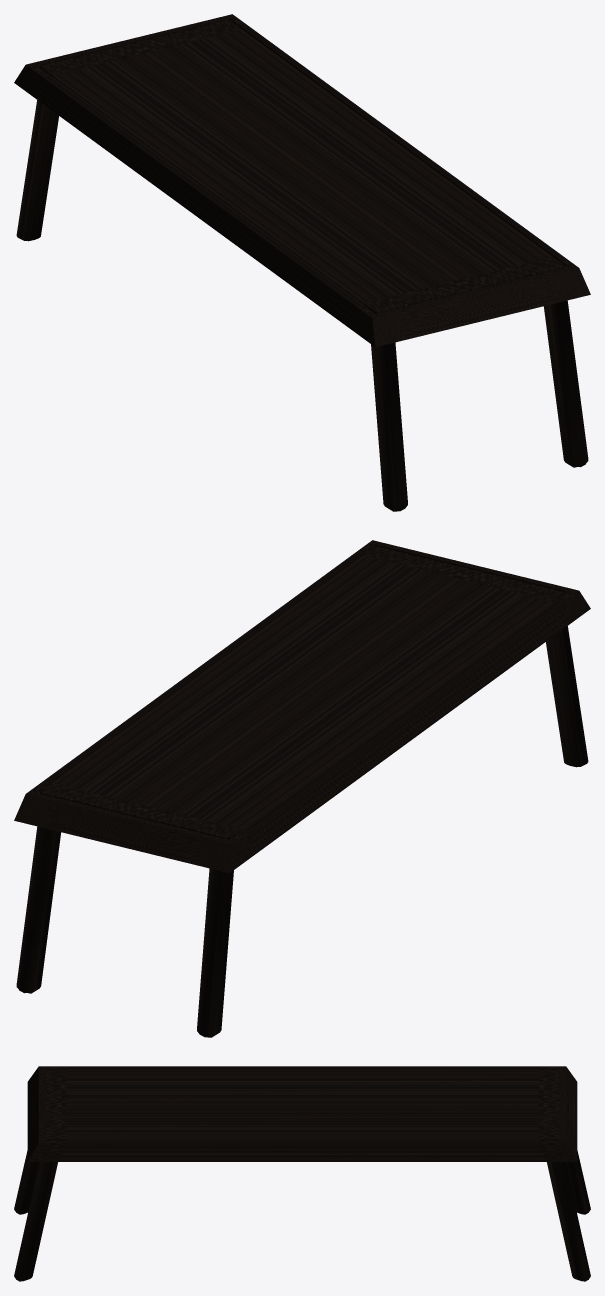
Rendered from table.fbx.
The picture shows the model from 3 angles, top to bottom: view 1: azimuth 30°, elevation 25°; view 2: azimuth 150°, elevation 25°; view 3: azimuth 270°, elevation 25°; orthographic projection. The views are drawn at different scales.
Visible parts, largest first — view 1: Cube; view 2: Cube; view 3: Cube.
Part boxes in pixels (x1,y1,x2,y2): Cube: [14, 14, 590, 511]; Cube: [14, 540, 590, 1037]; Cube: [14, 1066, 590, 1281].
Bounding box in the file's own units: 149 × 123 × 453.
